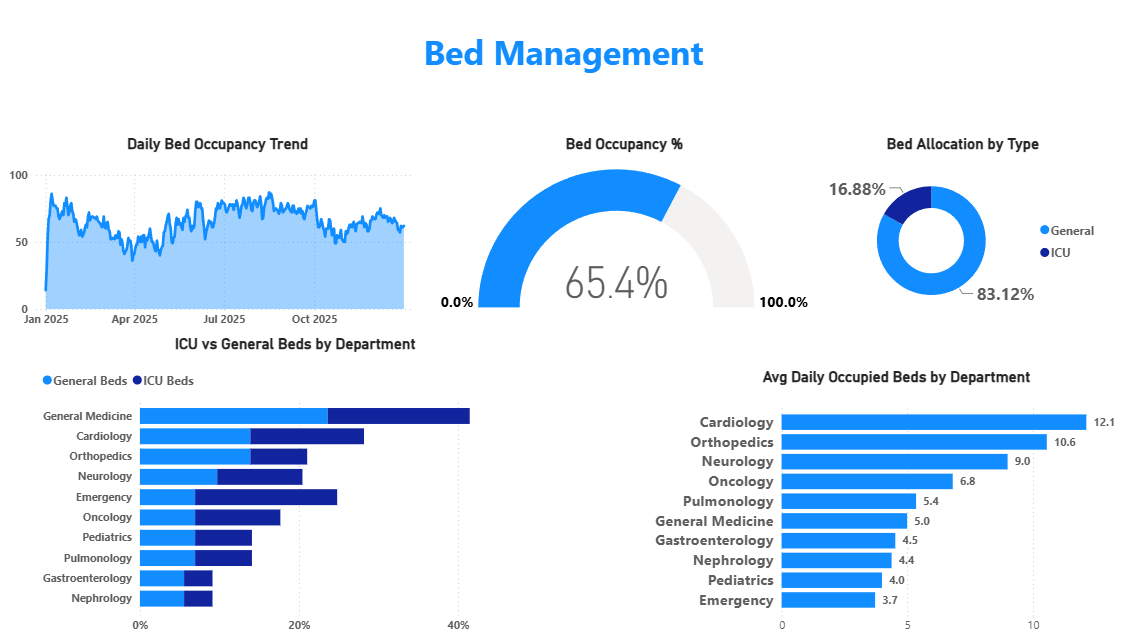

Layout of this report page (visuals, bound fields, positions):
{"tool":"powerbi","page":{"name":"Bed Management","canvas":[1280,720],"ordinal":1},"visuals":[{"type":"clusteredBarChart","title":"Avg Daily Occupied Beds by Department","fields":{"Category":["hospital_bed_management departments.Department_Name"],"Y":["Measures1.Avg Daily Occupied Beds"]},"box":[730,415,550,305],"z":0},{"type":"donutChart","title":"Bed Allocation by Type","fields":{"Y":["Calendar.Allocated Beds"],"Category":["hospital_bed_management bed_allocation.Bed_Type"]},"box":[917.6,156,321,204.4],"z":1000},{"type":"barChart","title":"ICU vs General Beds by Department","fields":{"Category":["hospital_bed_management departments.Department_Name"],"Y":["Divide(Measures1.General Beds, ScopedEval(Measures1.General Beds, []))","Divide(Sum(hospital_bed_management departments.ICU_Beds), ScopedEval(Sum(hospital_bed_management departments.ICU_Beds), "]},"box":[50,378.6,573.9,340.7],"z":2000},{"type":"areaChart","title":"Daily Bed Occupancy Trend","fields":{"Y":["Measures1.Avg Daily Occupied Beds"],"Category":["hospital_bed_management daily_occupancy.Occupancy_Date.Variation.Date Hierarchy.Month"]},"box":[13.3,156.7,475,223.3],"z":3000},{"type":"textbox","box":[0,33.3,1280,95],"z":4000},{"type":"gauge","fields":{"Y":["Measures1.Bed Occupancy %"]},"box":[489.1,156,428.5,204.4],"z":5000}]}

Visuals, with their boxes in screenshot pixels (x1, y1, x2, y2), scaled from the page's 1280x720 canvas onto the 1132x634 screenshot:
"Avg Daily Occupied Beds by Department" clusteredBarChart: box=[646, 365, 1131, 633]
"Bed Allocation by Type" donutChart: box=[812, 137, 1095, 317]
"ICU vs General Beds by Department" barChart: box=[44, 333, 552, 633]
"Daily Bed Occupancy Trend" areaChart: box=[12, 138, 432, 335]
textbox: box=[0, 29, 1131, 113]
gauge - Measures1.Bed Occupancy %: box=[433, 137, 812, 317]
